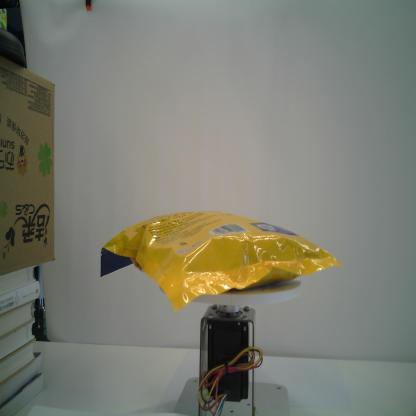Dried Food: (98, 209, 343, 314)
